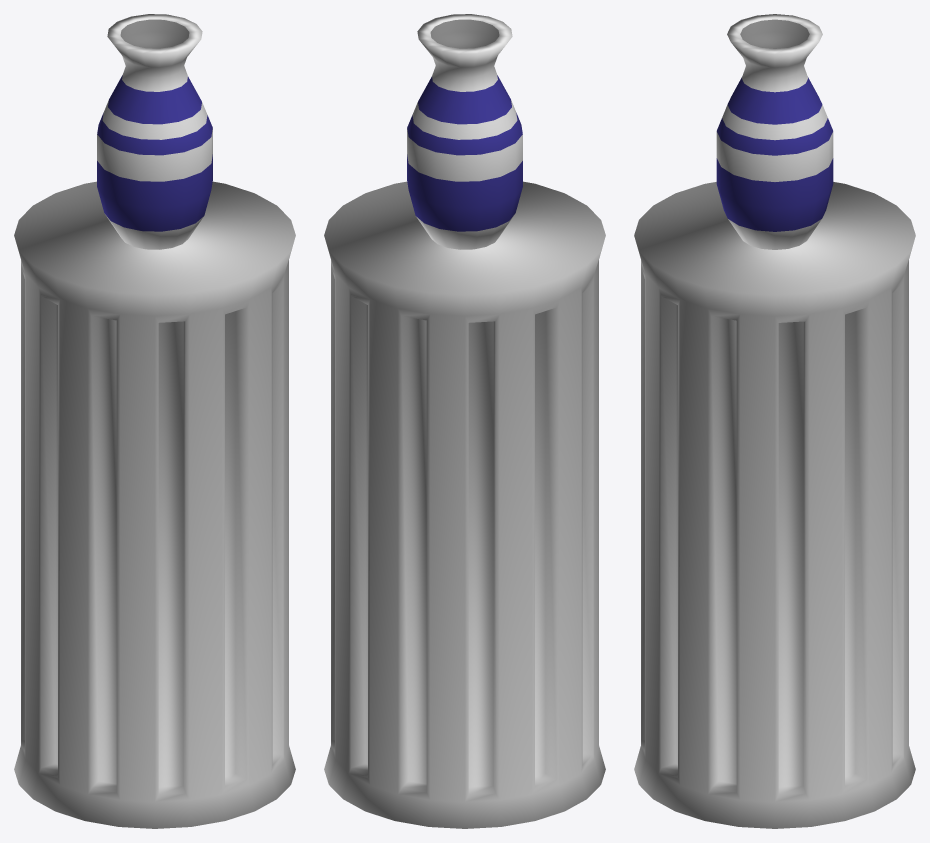
Rendered from vase_pillar.glb.
3 views of the same model, side by side, from view 1: azimuth 30°, elevation 25°; view 2: azimuth 150°, elevation 25°; view 3: azimuth 270°, elevation 25° (orthographic).
Parts seen in each view (by area): view 1: pillar, Vase; view 2: pillar, Vase; view 3: pillar, Vase.
Part boxes in pixels (x1,y1,x2,y2): pillar: [14, 181, 295, 828]; Vase: [97, 14, 212, 249]; pillar: [324, 181, 605, 828]; Vase: [407, 14, 522, 249]; pillar: [634, 182, 915, 828]; Vase: [716, 14, 833, 249].
Bounding box in the file's own units: 2.1 × 6.05 × 2.1.
